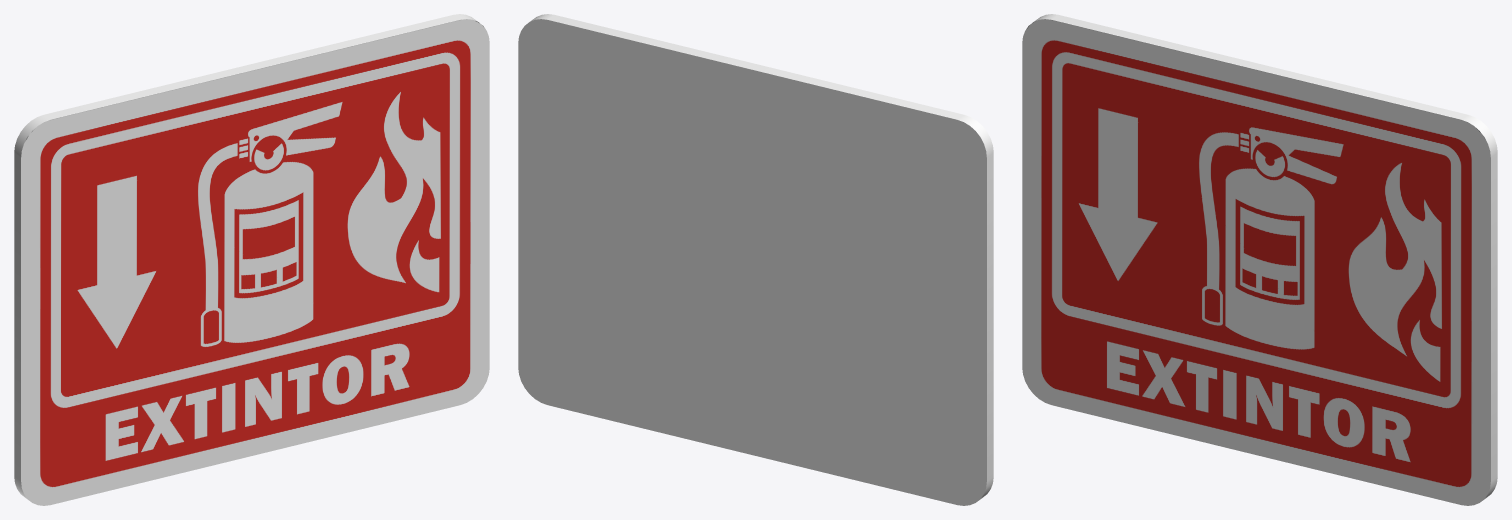
Rendered from senaletica_extintor_03.glb.
3 views of the same model, side by side, from view 1: azimuth 30°, elevation 25°; view 2: azimuth 150°, elevation 25°; view 3: azimuth 330°, elevation 25° (orthographic).
Parts seen in each view (by area): view 1: extintor.002_0; view 2: extintor.002_0; view 3: extintor.002_0.
Part boxes in pixels (x1,y1,x2,y2): extintor.002_0: (14,14,489,505); extintor.002_0: (518,14,993,505); extintor.002_0: (1022,14,1497,505).
Bounding box in the file's own units: 0.2 × 0.1571 × 0.00509.
Materials: 1 (1 with a texture image).
